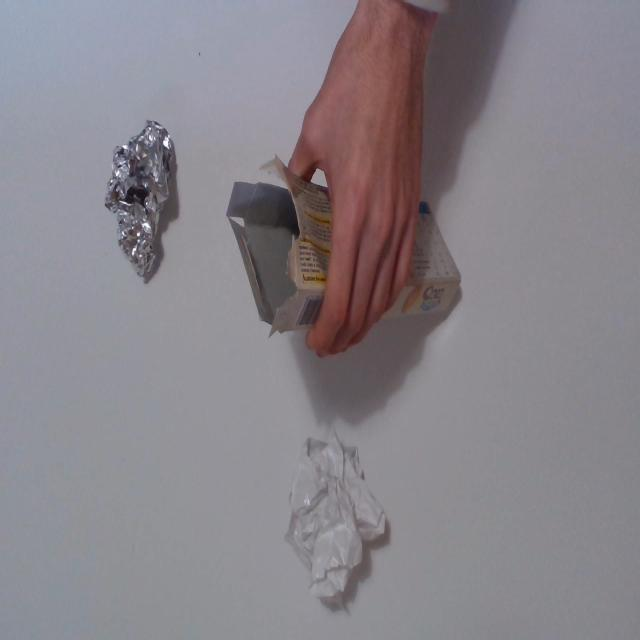Paper: (287, 434, 392, 601)
